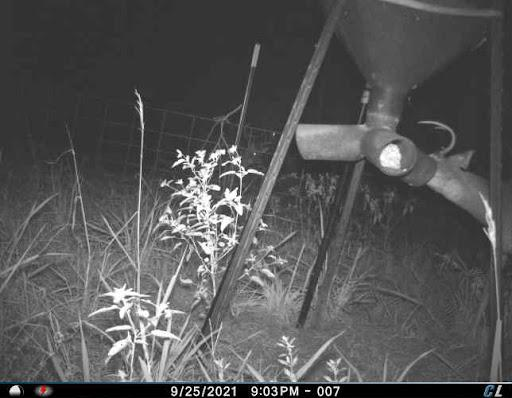Deer: (400, 110, 512, 332)
